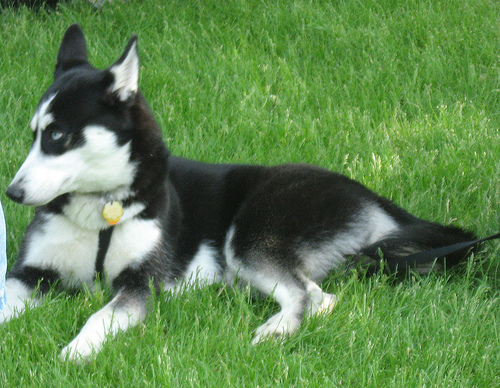dog: (0, 21, 479, 364)
